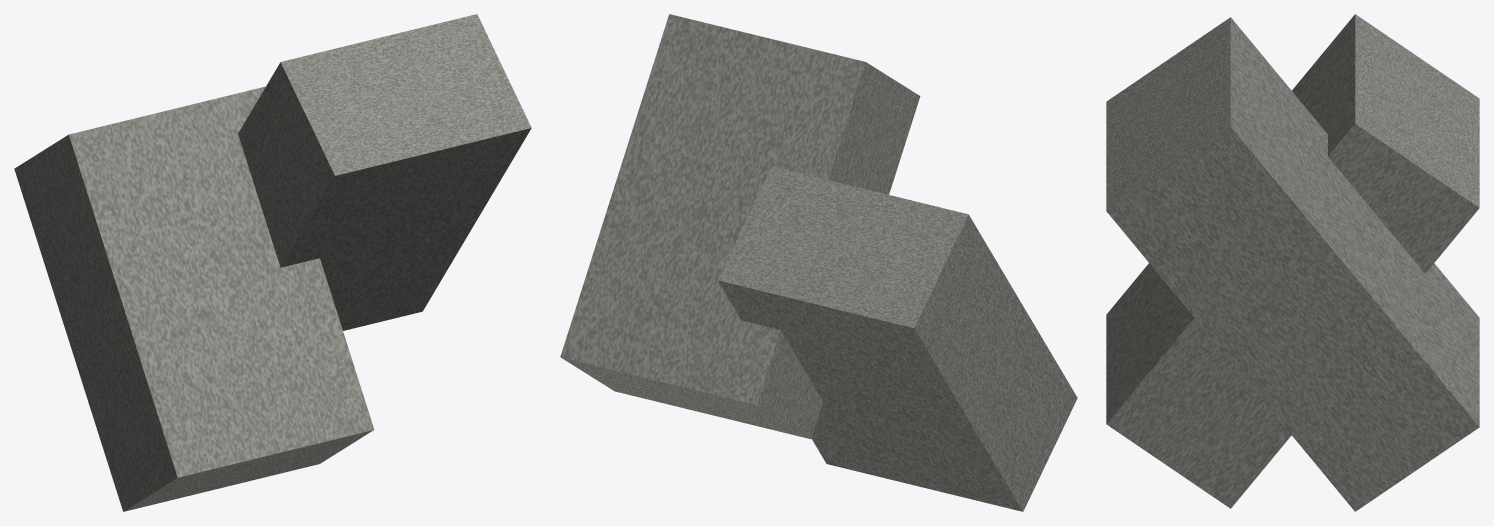
3 views of the same model, side by side, from view 1: azimuth 30°, elevation 25°; view 2: azimuth 150°, elevation 25°; view 3: azimuth 270°, elevation 25° (orthographic). The views are drawn at different scales.
Parts seen in each view (by area): view 1: roof_pitched_gable_lod0_run001; view 2: roof_pitched_gable_lod0_run001; view 3: roof_pitched_gable_lod0_run001.
Part boxes in pixels (x1,y1,x2,y2): roof_pitched_gable_lod0_run001: (14, 14, 531, 511); roof_pitched_gable_lod0_run001: (560, 14, 1077, 511); roof_pitched_gable_lod0_run001: (1106, 14, 1479, 511).
Size of the model in its own units: 4.5 by 5 by 3.6.
Materials: 1 (1 with a texture image).
